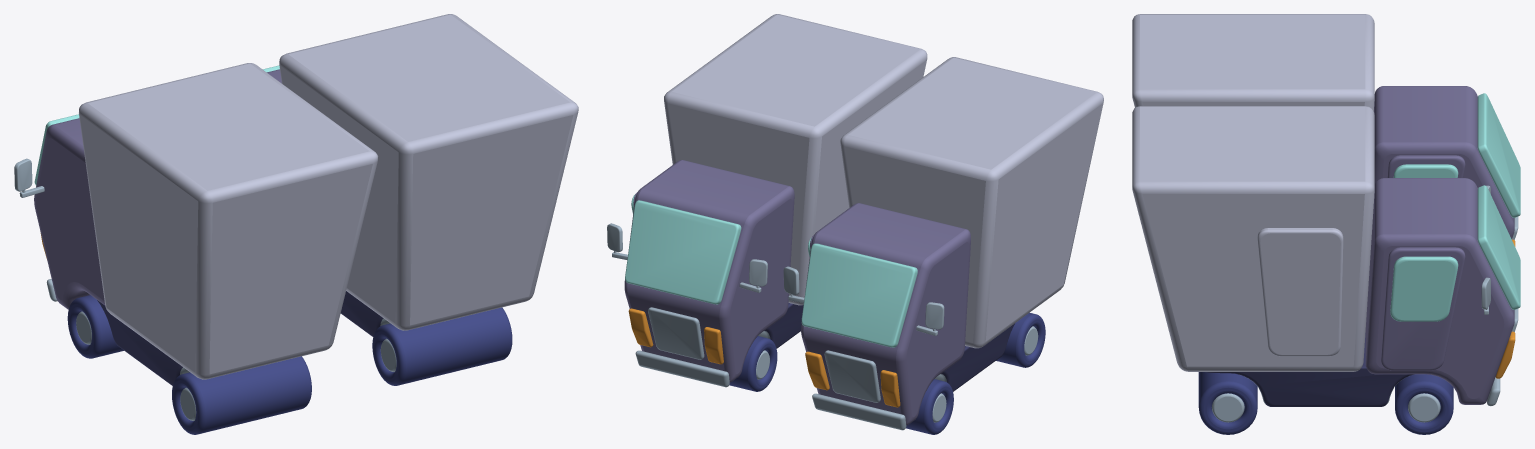
File: SM_Delivery.fbx
3 views of the same model, side by side, from view 1: azimuth 30°, elevation 25°; view 2: azimuth 150°, elevation 25°; view 3: azimuth 270°, elevation 25° (orthographic). The views are drawn at different scales.
Parts seen in each view (by area): view 1: Deliver Truck; view 2: Deliver Truck; view 3: Deliver Truck.
Boxes of the visible parts, x1,y1,x2,y2 form: Deliver Truck: (14,14,578,434); Deliver Truck: (607,14,1103,434); Deliver Truck: (1132,14,1520,434).
Bounding box in the file's own units: 384 × 270 × 357.
